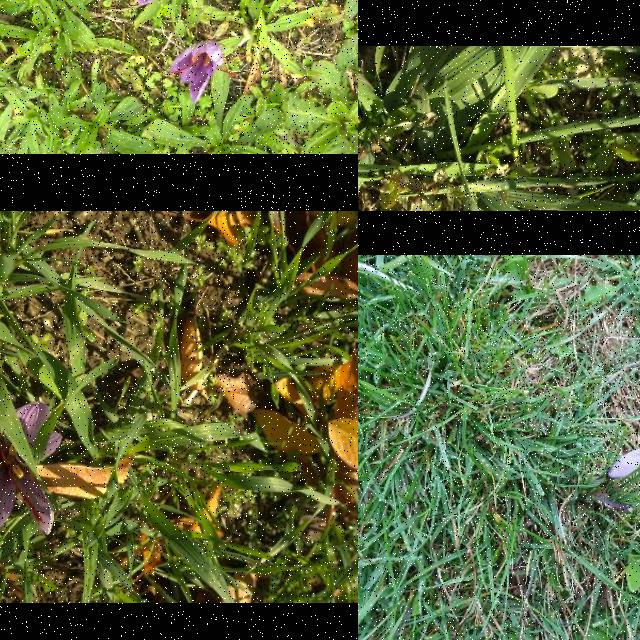flower: (0, 402, 62, 535), (171, 41, 237, 105), (610, 440, 640, 480)
